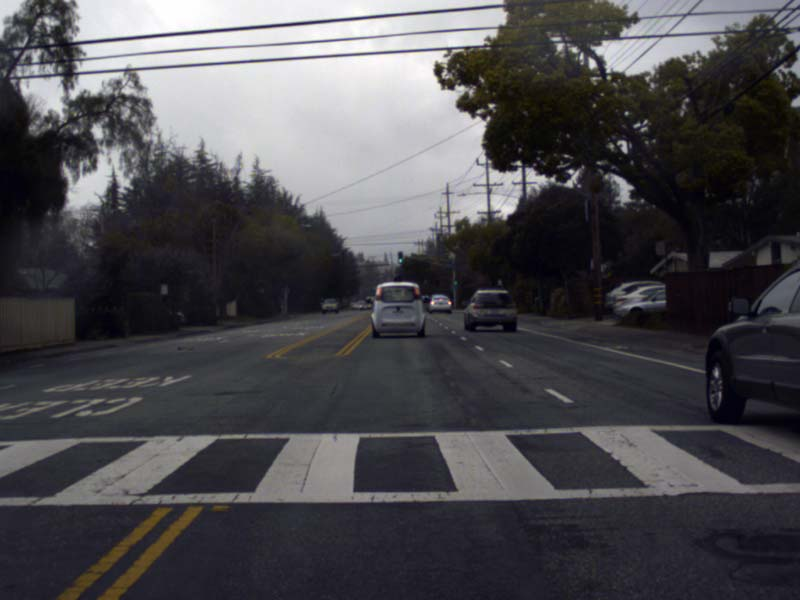Green: (398, 252, 402, 263), (454, 277, 456, 284)
